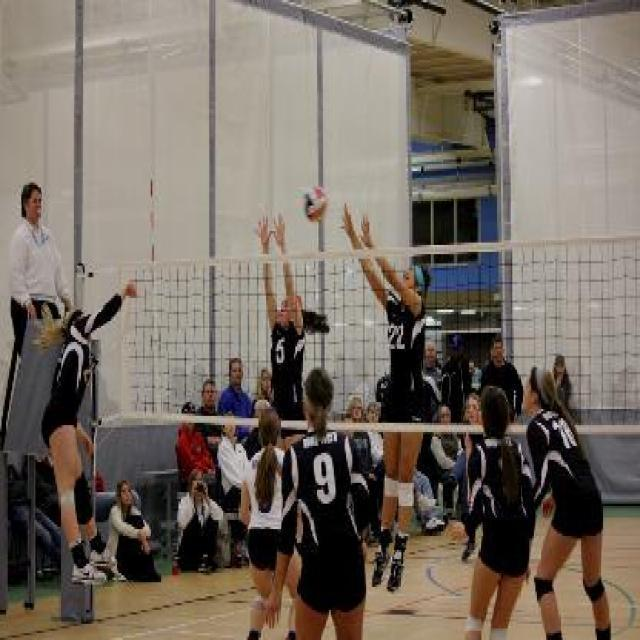volleyball: (302, 186, 330, 223)
